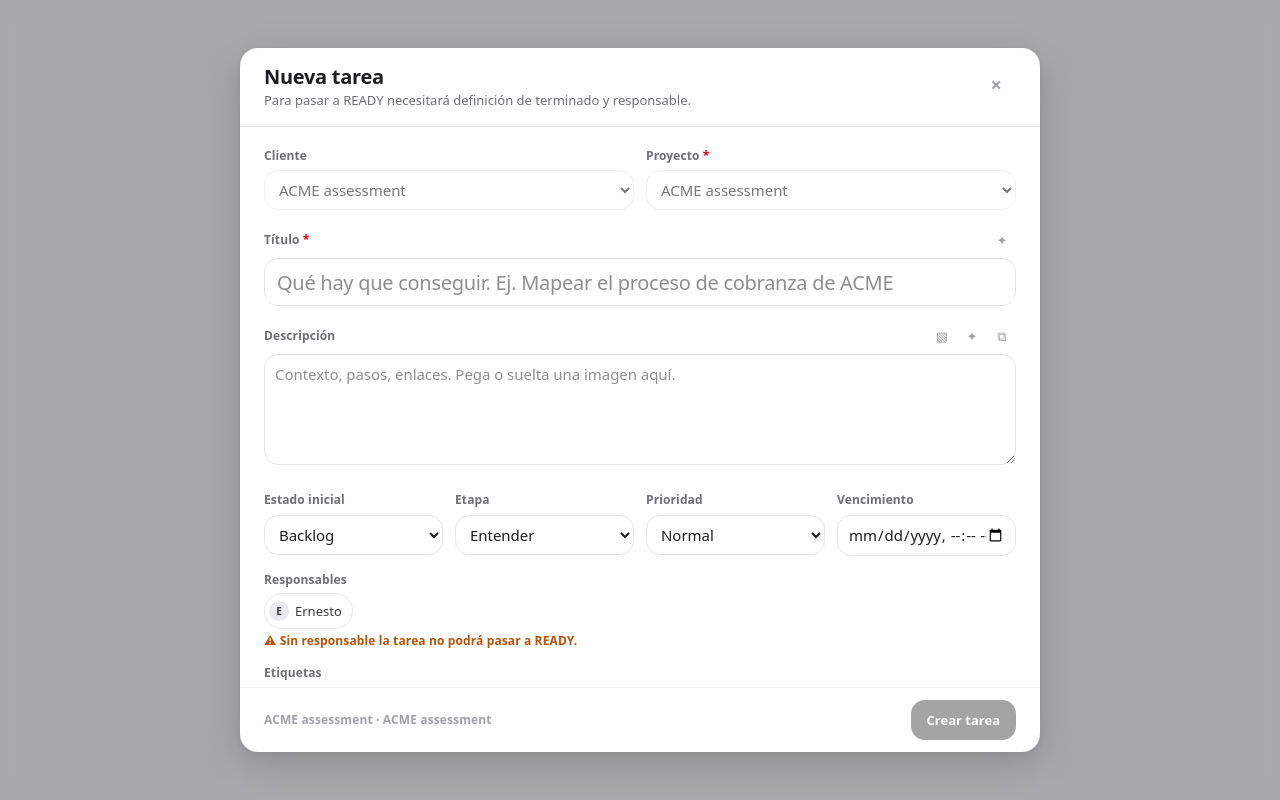
Scenario: CreateTaskDialog (render) › un título válido habilita el envío antes de enviar (validación en línea)
Replace the text in the field with test id "new-task-title" with "Mapear el proceso" at [640, 282], box [264, 258, 1016, 306]
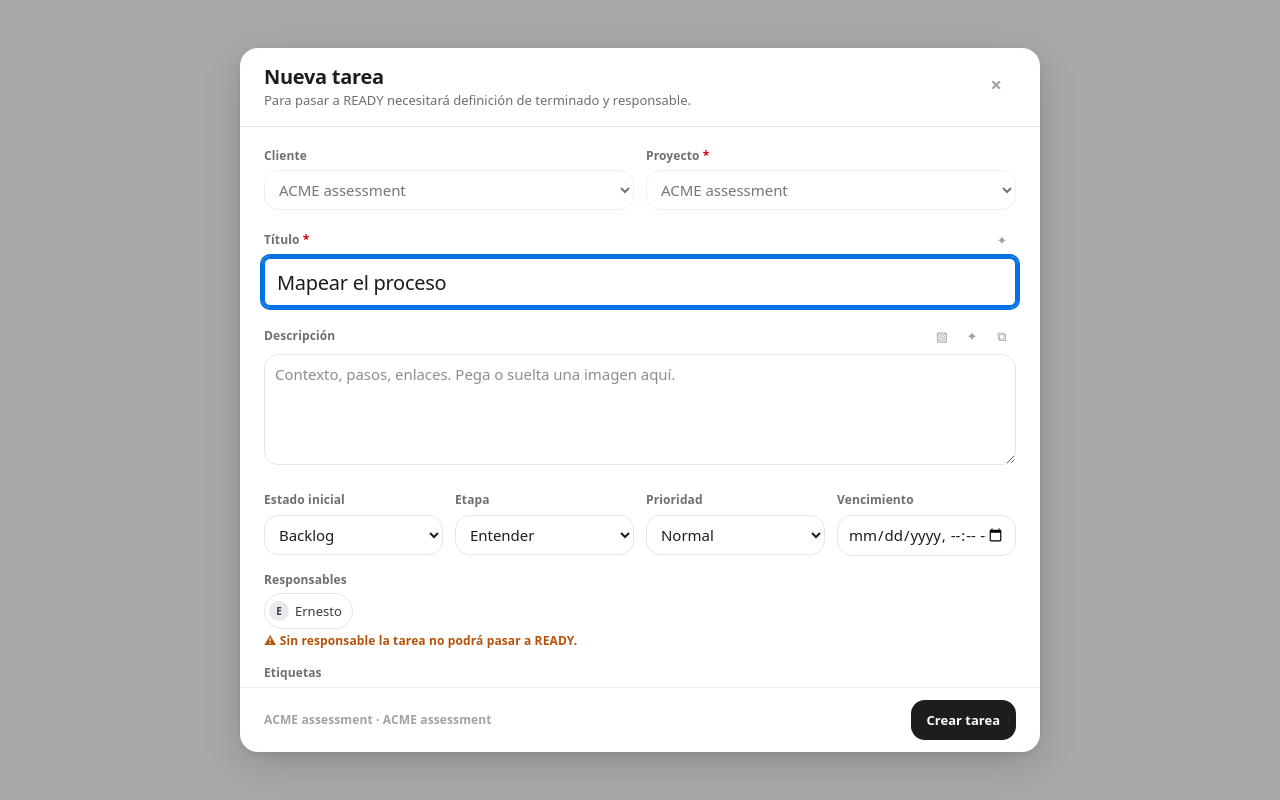
Now the button with test id "new-task-submit" is enabled, box [911, 700, 1016, 740]
